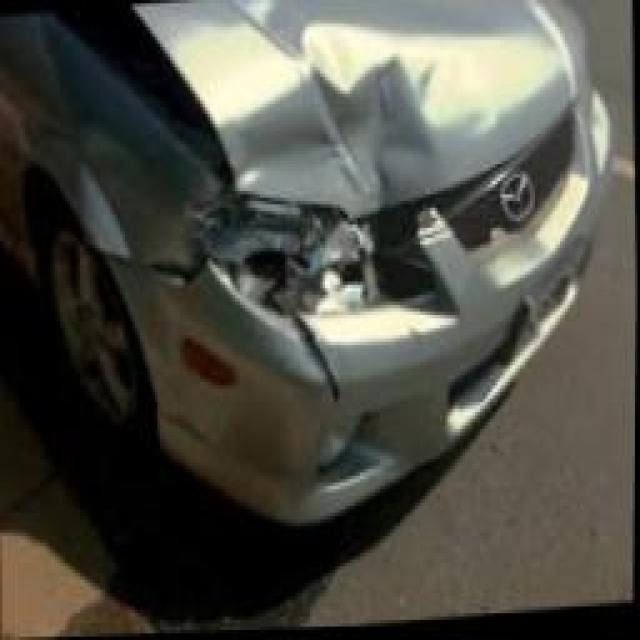Bonnet: (155, 0, 589, 216)
Bumper: (115, 251, 402, 545)
Fender: (65, 74, 212, 276)
Light: (218, 188, 398, 307)
